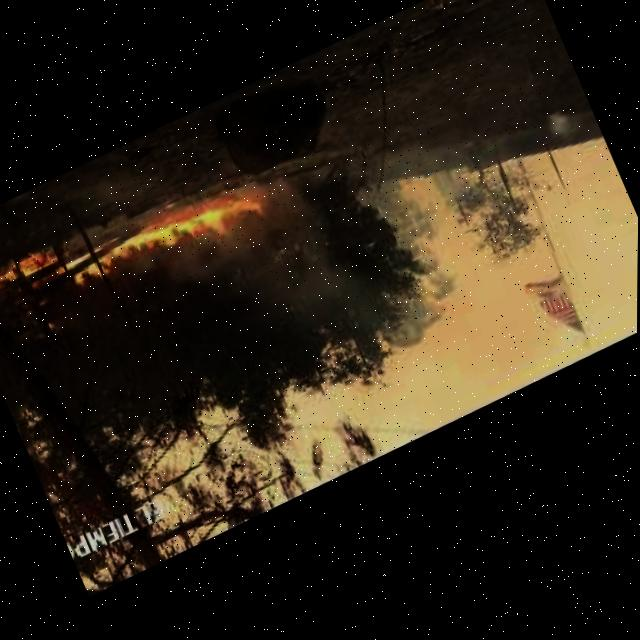Fire: (55, 179, 271, 314), (54, 178, 269, 309)
Smoke: (348, 98, 574, 348), (176, 189, 376, 392), (0, 246, 53, 293), (532, 108, 580, 159), (18, 283, 51, 320), (47, 321, 57, 333)
